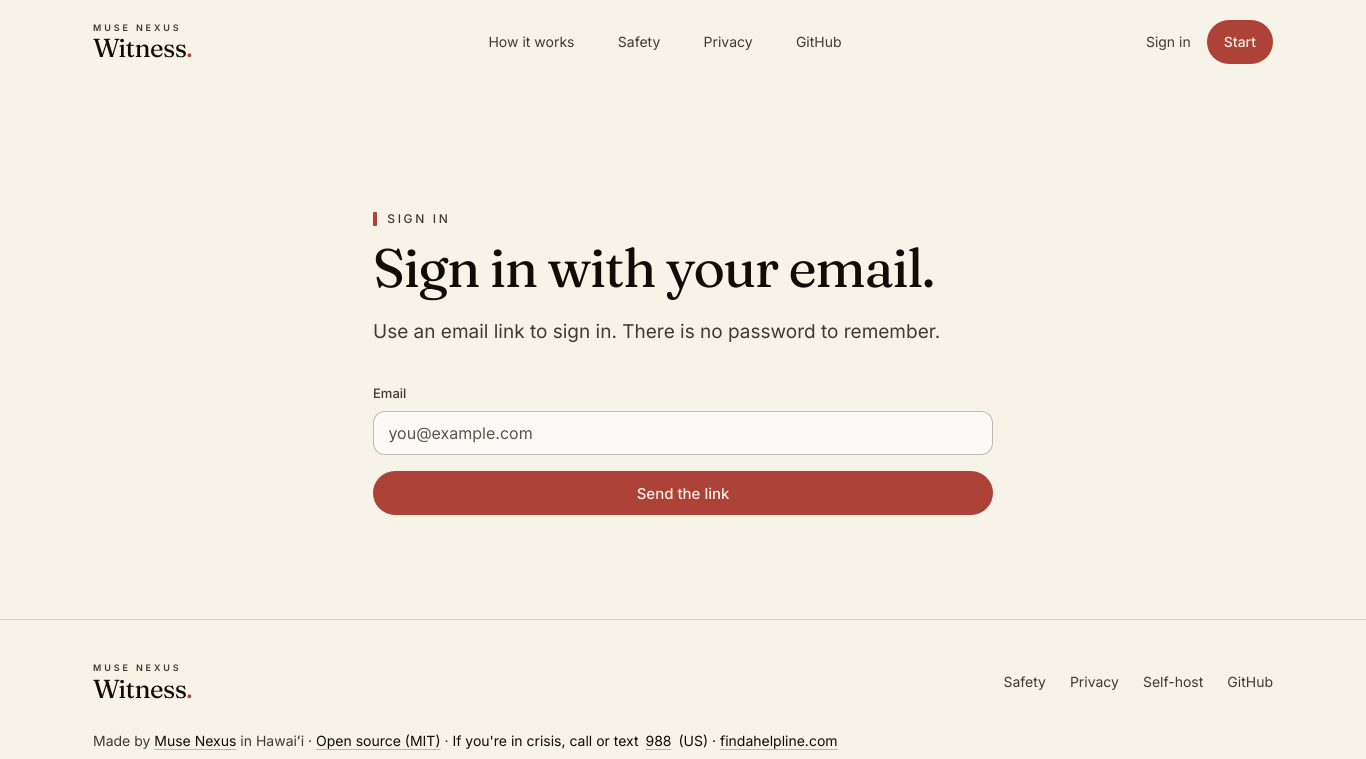
Sign in › gives the real link lifetime, and reads the same for any address while invite-only
Step 1. Type "anyone@example.com" into the field labelled "Email" → [683, 434], box [373, 412, 993, 456]
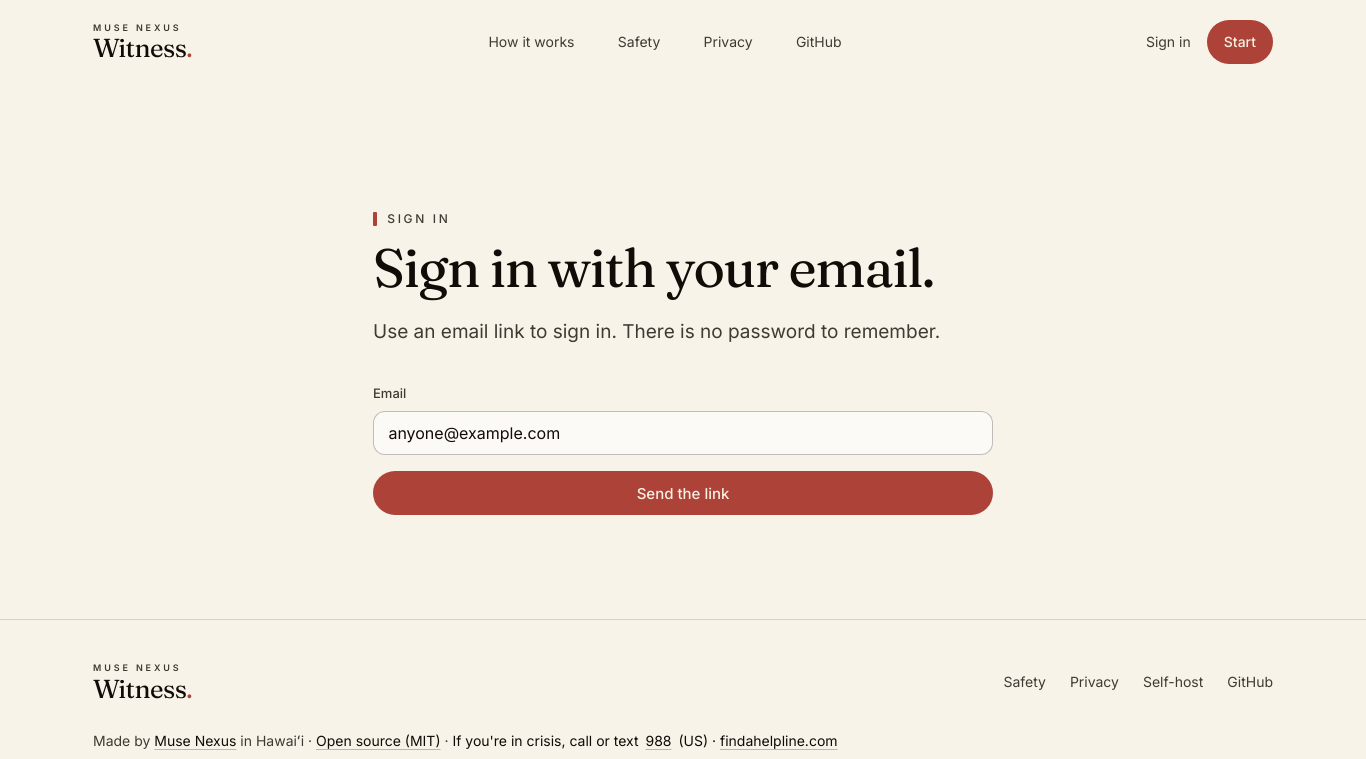
Step 2. Click the button "Send the link" → [683, 494], box [373, 472, 993, 516]
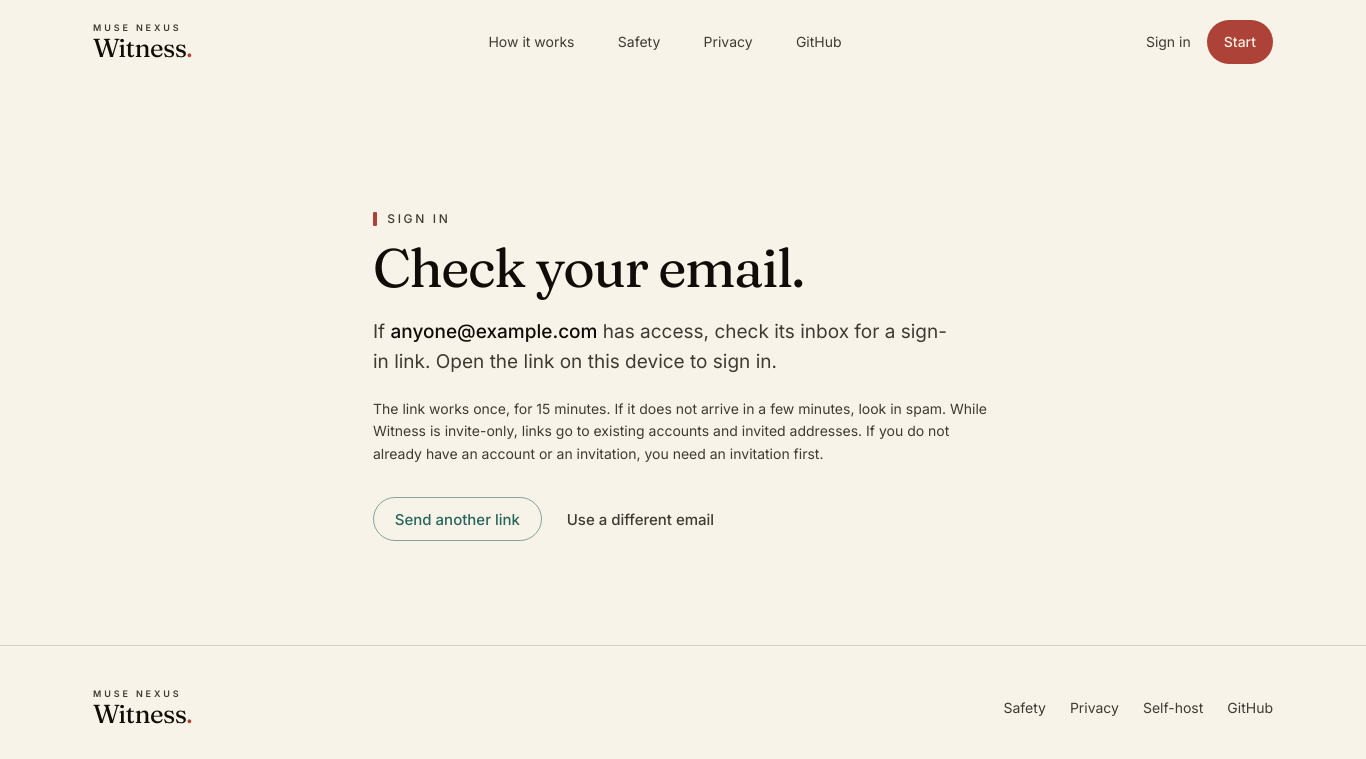
expect the heading "Check your email." is shown: met, box [373, 234, 804, 301]
expect the text "The link works once, for 15 minutes. If it does not arrive" shows "While Witness is invite-only, links go to existing accounts and invited addresses.": met, box [373, 400, 987, 462]
